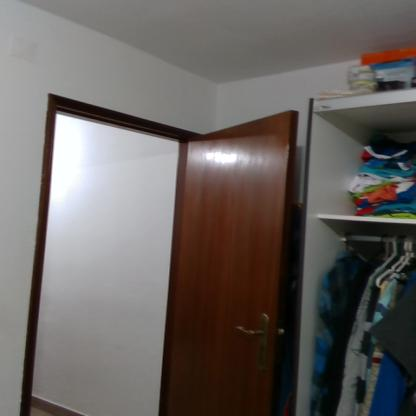open: (28, 88, 312, 416)
